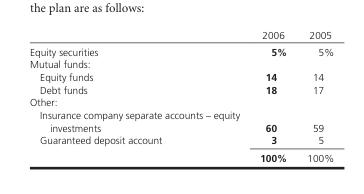table: (28, 29, 333, 163)
table column: (28, 29, 249, 163), (249, 29, 296, 163), (296, 29, 333, 163)
table column header: (28, 29, 333, 43)
table projected row header: (28, 57, 333, 70), (28, 95, 333, 108)
table row: (28, 108, 333, 133), (28, 133, 333, 148), (28, 148, 333, 163), (28, 29, 333, 43), (28, 43, 333, 57), (28, 57, 333, 70), (28, 82, 333, 95), (28, 95, 333, 108), (28, 70, 333, 82)
